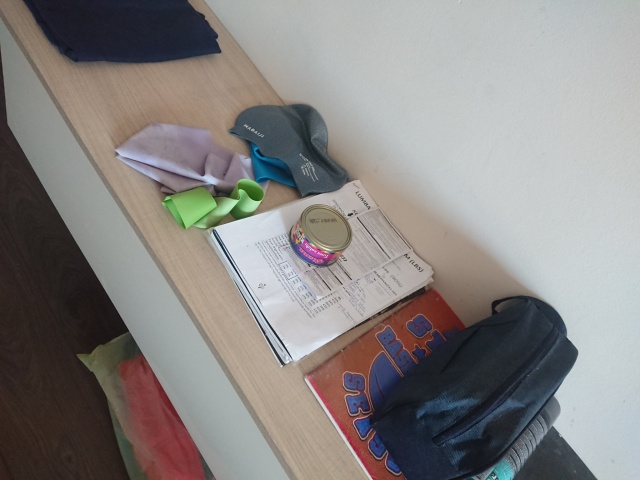Giana Tuna Salad Mexico 185g: (288, 202, 354, 269)
